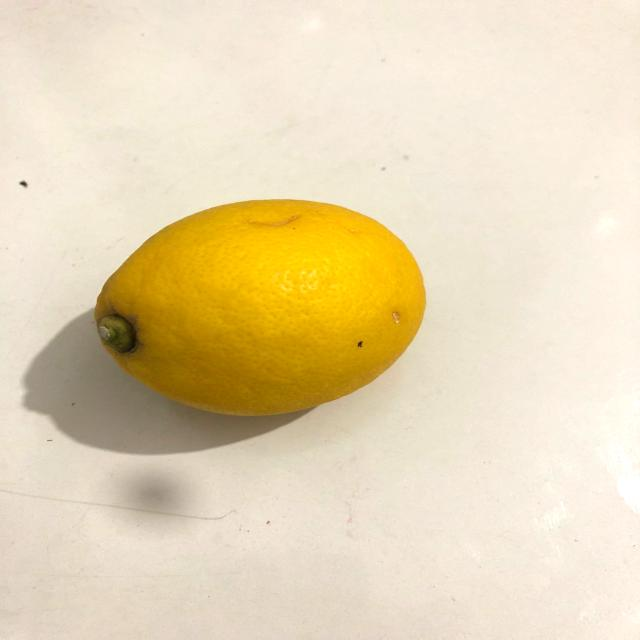lemon: (89, 186, 443, 426)
